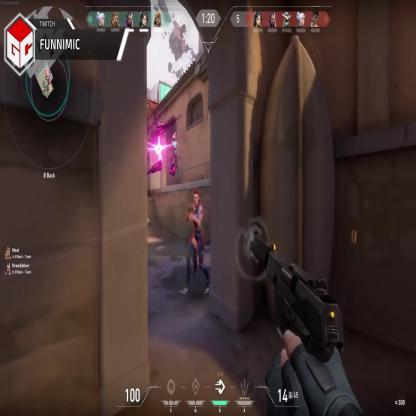enemy: (179, 190, 211, 294), (168, 132, 181, 178)
enemy_head: (192, 190, 200, 206), (171, 133, 176, 143)
